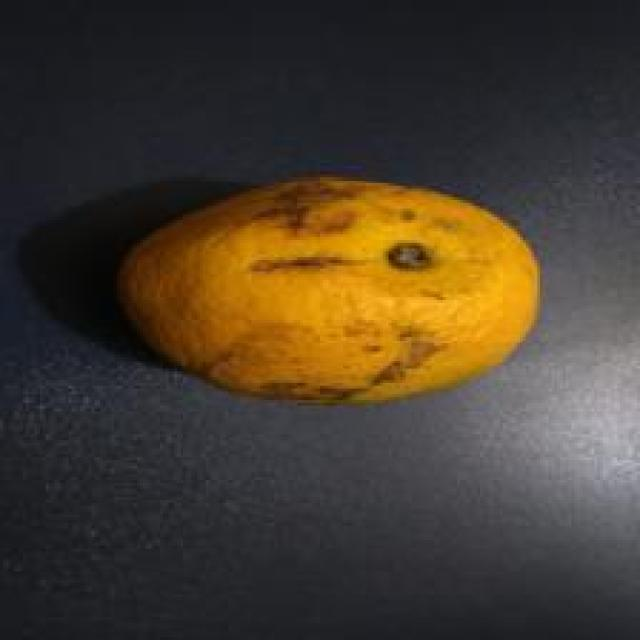overripe: (113, 162, 548, 412)
